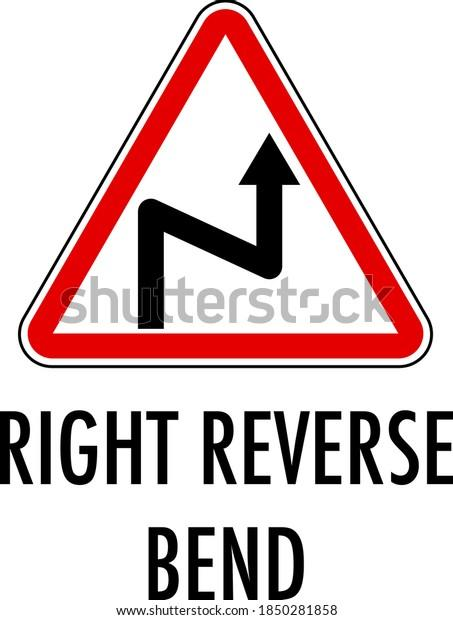Right Reverse Bend: (26, 10, 444, 382)
